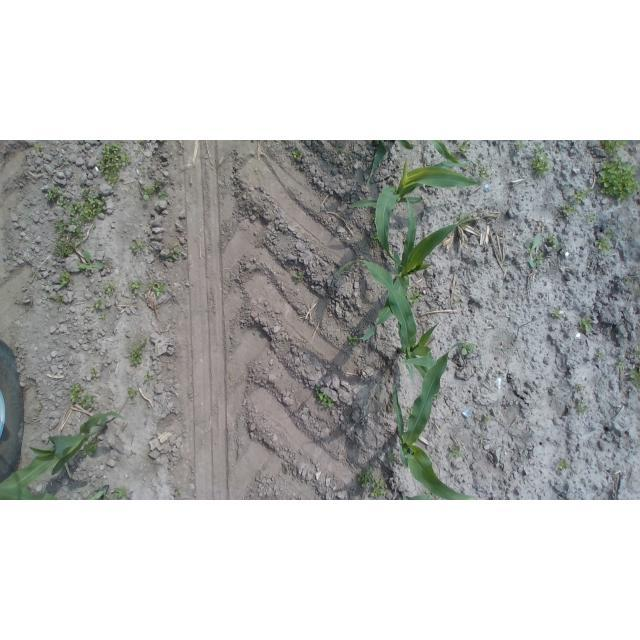Maize: (350, 197, 475, 342), (348, 159, 485, 267), (391, 343, 477, 500), (333, 260, 439, 382), (0, 412, 128, 489), (430, 140, 475, 164), (367, 142, 390, 187), (1, 488, 60, 500), (87, 485, 109, 500), (400, 492, 430, 500), (393, 141, 414, 150)
Weeds: (45, 186, 108, 259), (597, 155, 640, 205), (97, 142, 133, 191), (529, 143, 553, 181), (525, 233, 544, 268), (69, 384, 96, 408), (141, 179, 169, 202), (77, 249, 104, 272), (129, 336, 149, 365), (600, 141, 628, 160), (313, 387, 335, 410), (471, 158, 489, 180), (356, 465, 374, 487), (149, 278, 168, 298), (573, 187, 593, 205), (371, 477, 387, 499), (59, 268, 75, 288), (594, 238, 611, 255), (129, 238, 147, 254), (461, 338, 477, 356), (457, 141, 472, 160), (45, 294, 63, 309), (407, 287, 422, 305), (167, 243, 181, 262), (579, 317, 593, 336), (549, 232, 562, 252), (556, 457, 572, 473), (111, 485, 129, 499), (629, 368, 640, 389), (83, 441, 98, 456), (449, 446, 464, 460), (130, 278, 143, 294), (89, 299, 103, 313), (561, 204, 575, 218), (104, 280, 116, 296), (142, 369, 155, 381), (576, 400, 589, 412), (126, 387, 139, 398), (290, 149, 303, 160), (572, 383, 586, 393), (515, 140, 526, 152), (584, 212, 596, 223), (386, 452, 398, 463), (369, 232, 379, 245), (347, 334, 357, 346), (624, 276, 634, 287), (90, 366, 99, 378), (292, 271, 302, 281), (616, 361, 625, 372), (405, 406, 411, 422), (454, 297, 463, 307), (174, 487, 182, 497), (552, 310, 562, 318), (227, 371, 234, 382), (98, 313, 107, 321), (604, 230, 612, 239), (598, 352, 606, 361), (481, 413, 489, 422), (495, 288, 502, 298), (371, 212, 376, 225), (130, 401, 139, 408), (434, 393, 442, 399), (38, 402, 43, 411), (33, 145, 39, 152), (633, 349, 640, 355), (340, 147, 345, 155), (479, 434, 485, 440), (136, 147, 143, 152), (345, 365, 350, 371), (635, 288, 640, 293), (142, 170, 145, 174), (82, 483, 86, 485)
